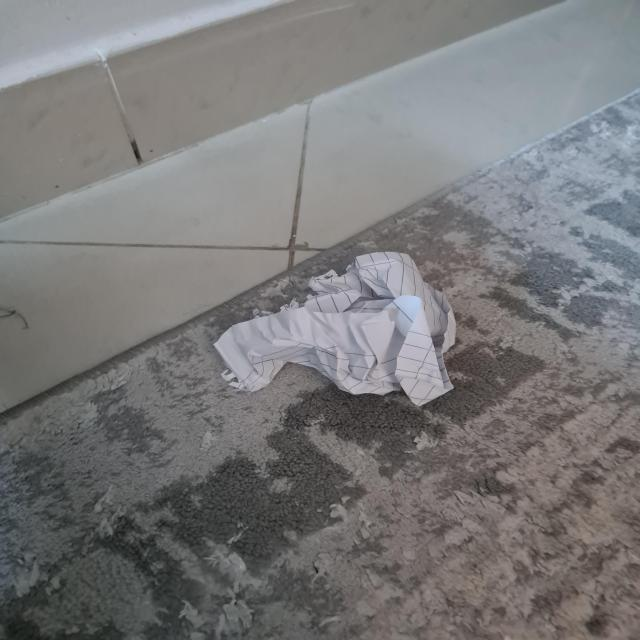trash: (210, 248, 470, 400)
